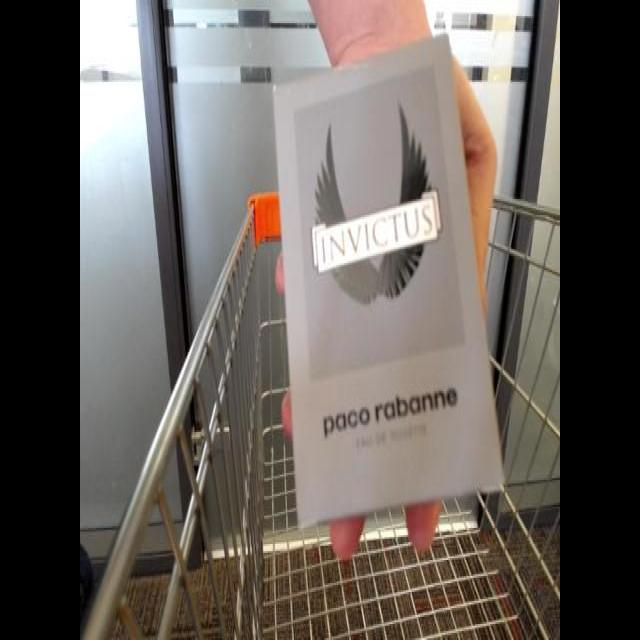Paco Rabanne: (270, 18, 520, 530)
